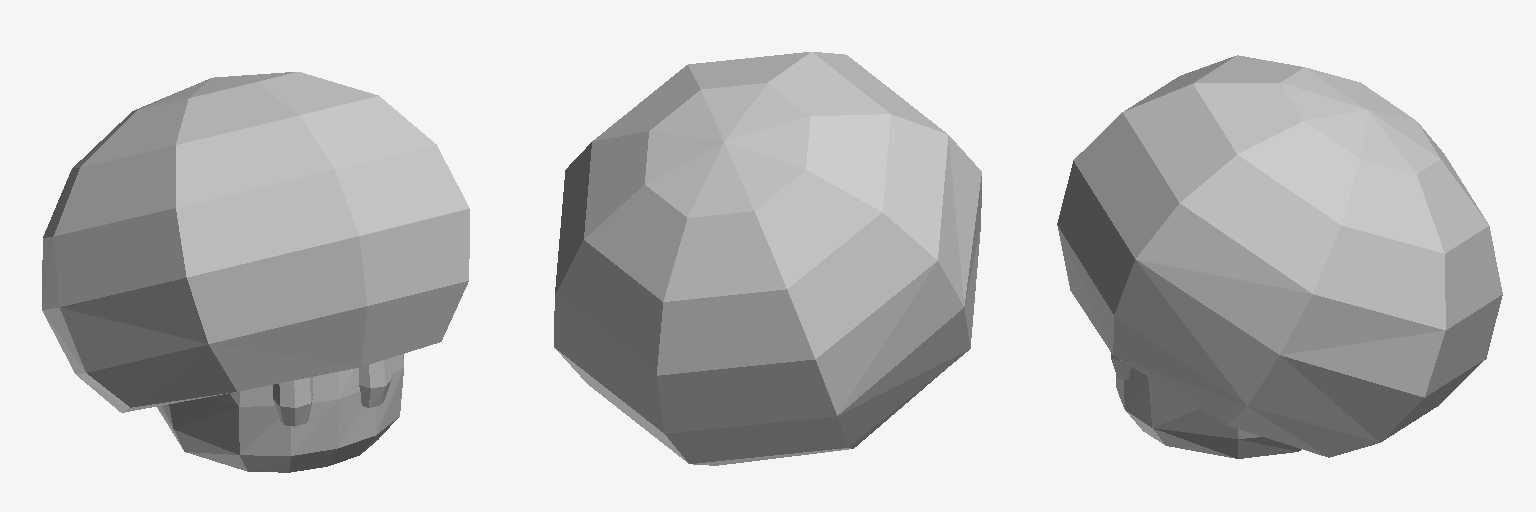
Rendered from mushroom.obj.
3 views of the same model, side by side, from view 1: azimuth 30°, elevation 25°; view 2: azimuth 150°, elevation 25°; view 3: azimuth 270°, elevation 25° (orthographic).
Parts seen in each view (by area): view 1: 10; view 2: 10; view 3: 10.
Part boxes in pixels (x1,y1,x2,y2): 10: (42, 72, 469, 472); 10: (554, 52, 981, 465); 10: (1057, 55, 1502, 458).
Size of the model in its own units: 2.29 by 1.93 by 2.25.